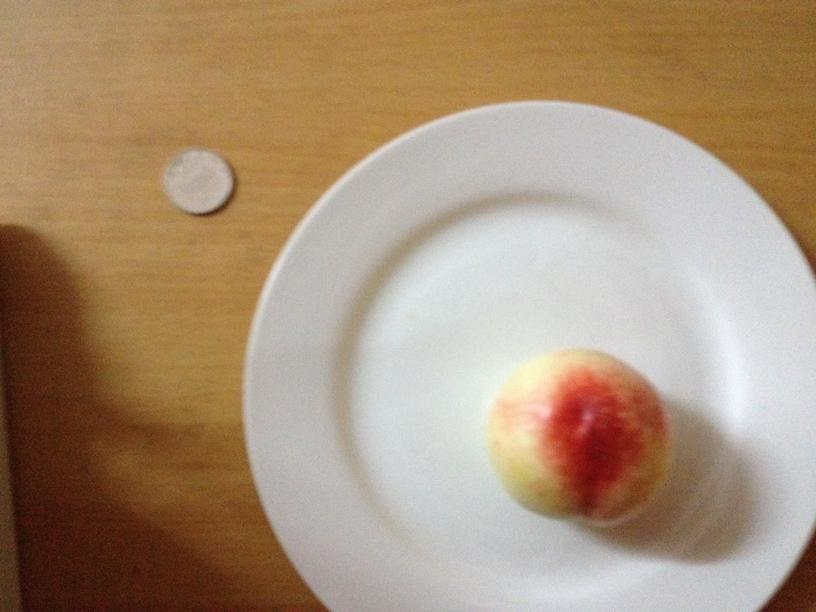coin: (161, 149, 231, 214)
peach: (488, 344, 670, 529)
